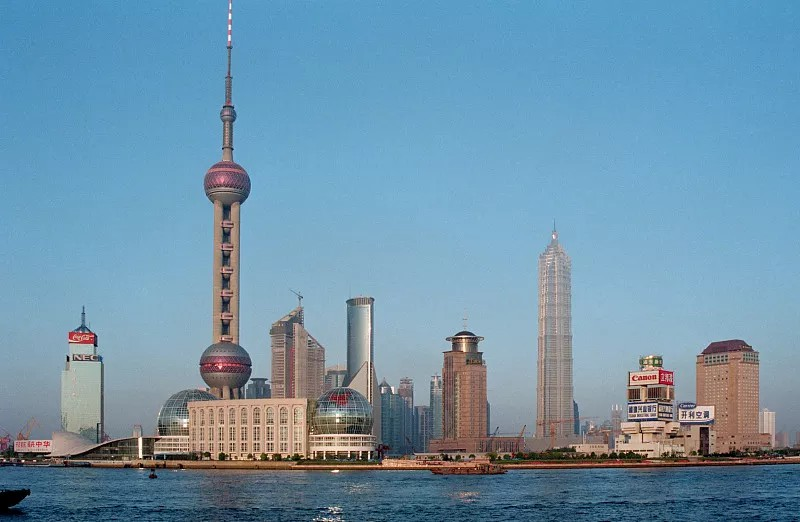Oriental: (199, 1, 252, 399)
